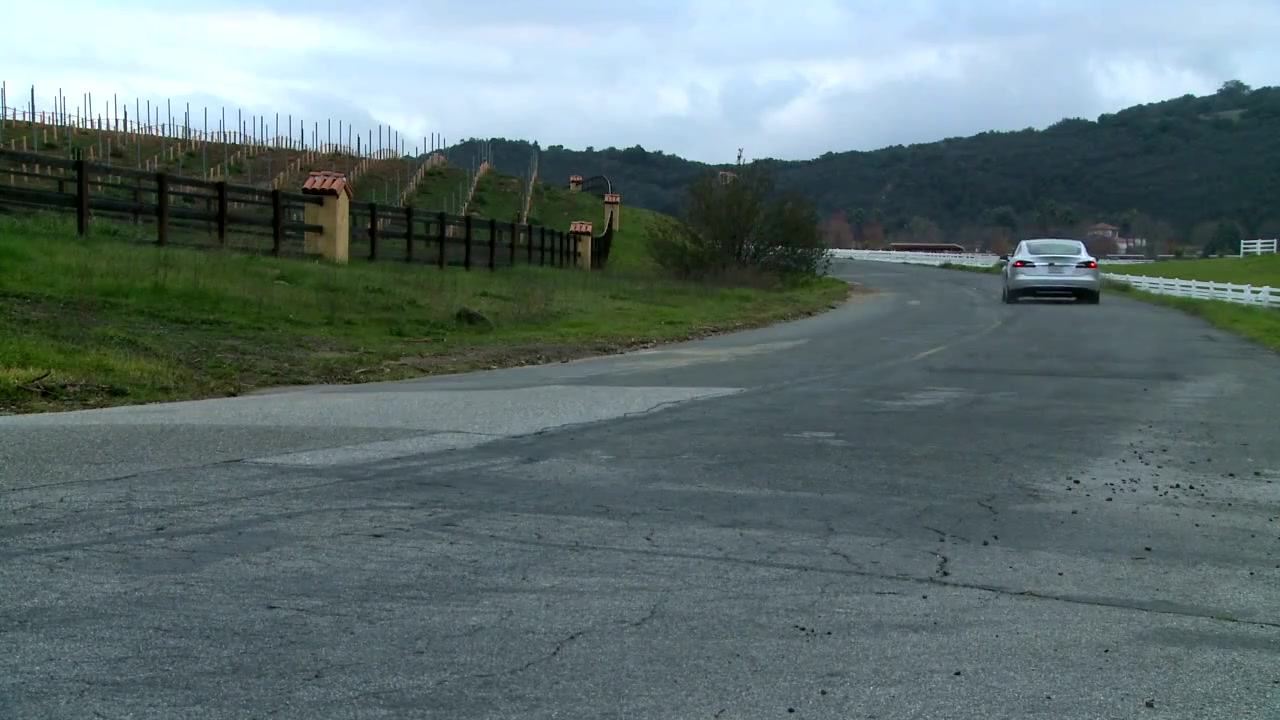car: (997, 235, 1107, 305)
